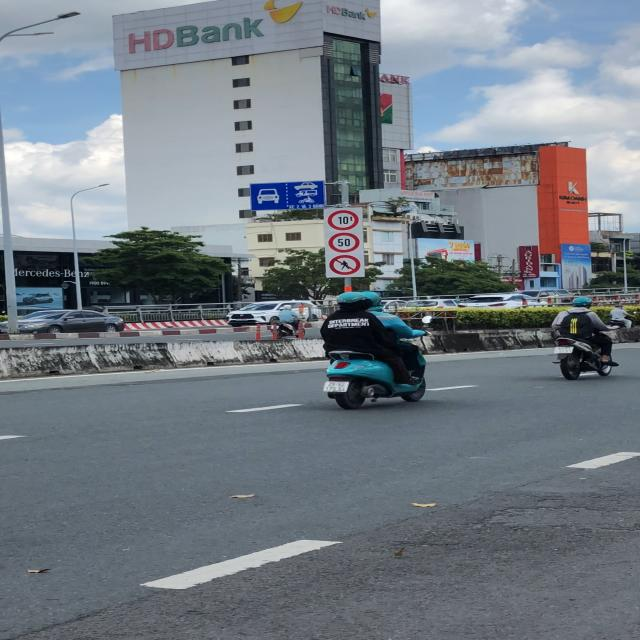Bien bao cam nguoi di bo: (328, 254, 365, 278)
Bien bao toc do toi da cho phep: (329, 231, 360, 254)
